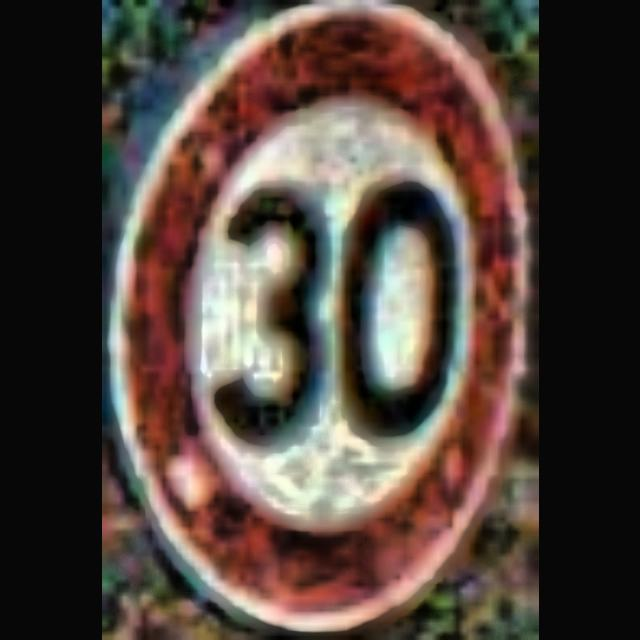speed_30: (124, 19, 520, 623)
